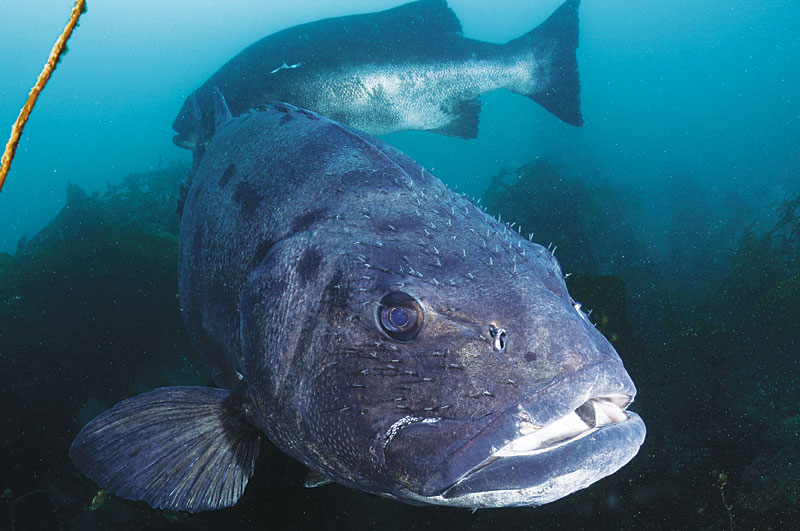Giant Bass: (62, 5, 702, 522)
